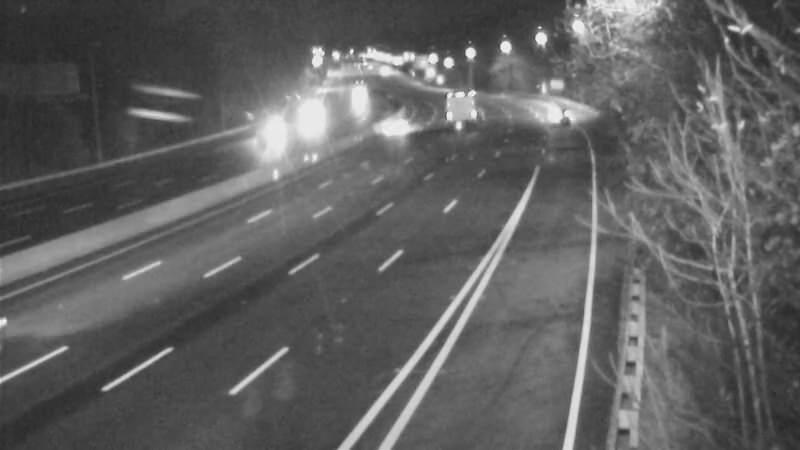vehicle: (528, 91, 578, 141), (437, 82, 487, 132), (370, 103, 420, 153), (250, 115, 300, 165), (287, 95, 337, 145), (333, 63, 383, 113)
